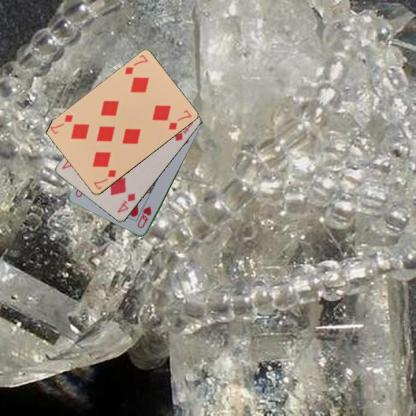4d: (114, 191, 136, 214)
7d: (122, 52, 149, 76), (91, 168, 117, 191)
Qh: (134, 204, 152, 229)
